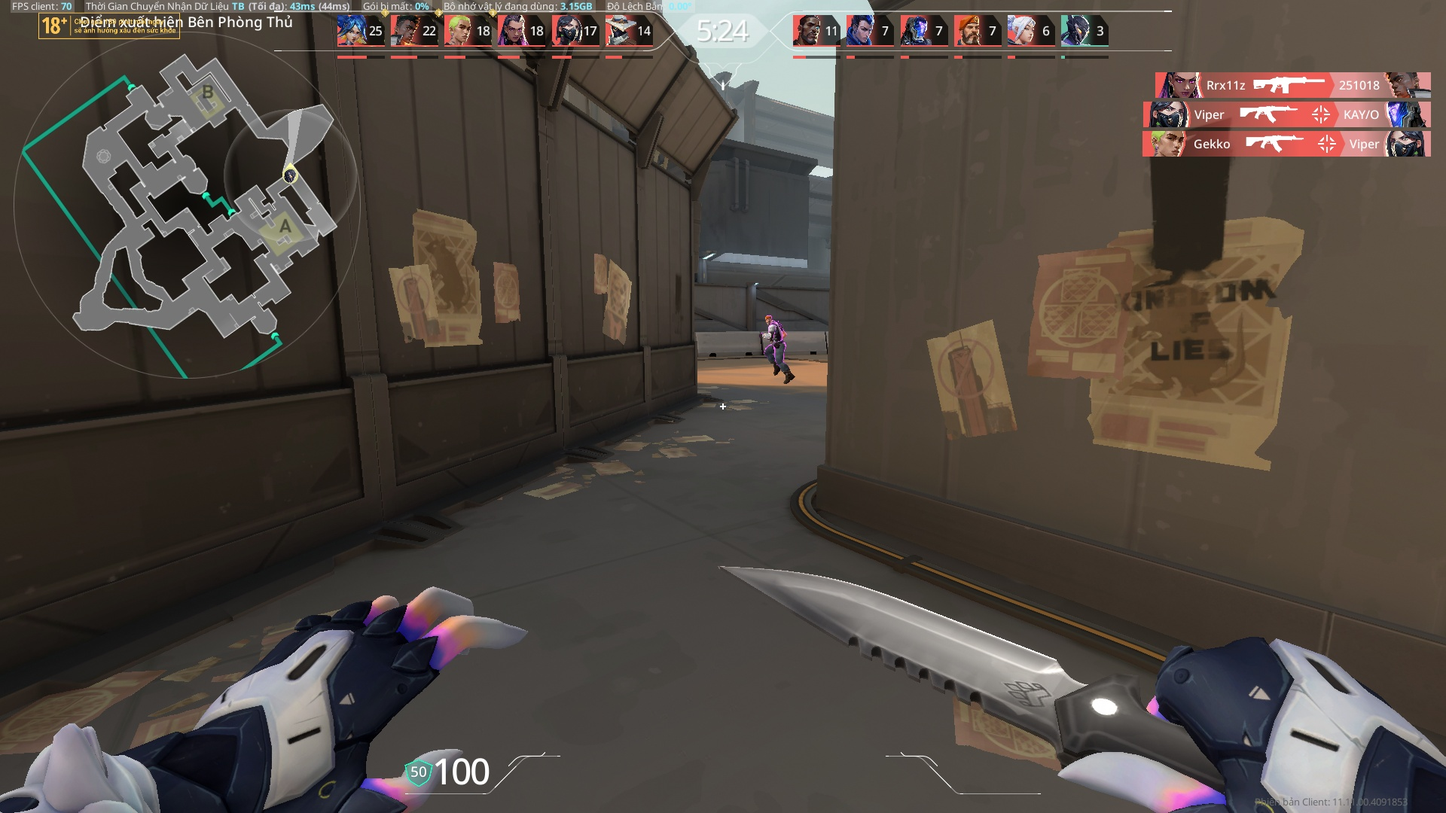body: (763, 321, 788, 343)
head: (761, 312, 776, 324)
